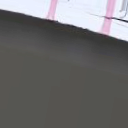crackTip: (80, 8, 128, 25)
